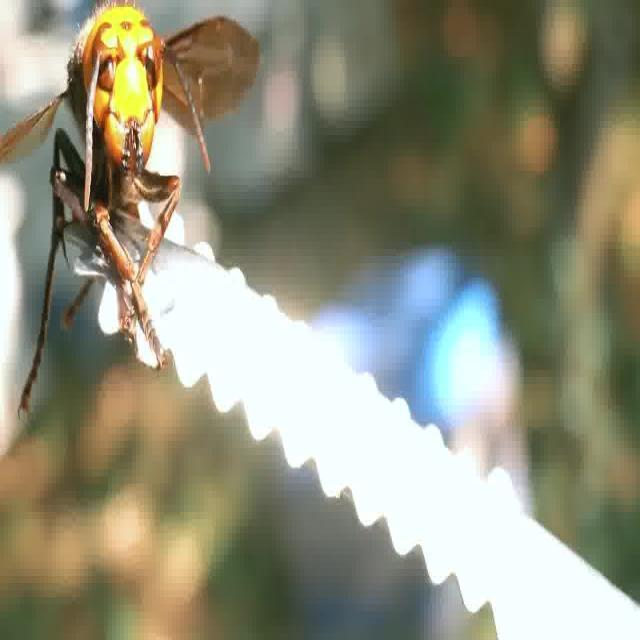Wasp: (19, 1, 258, 362)
